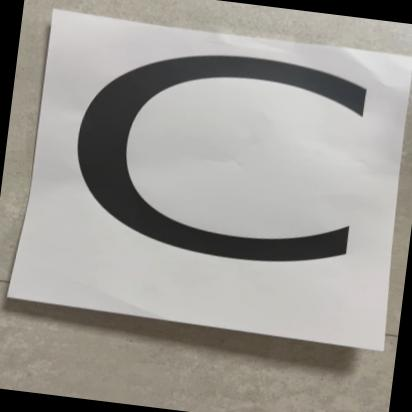seat: (13, 2, 412, 344)
